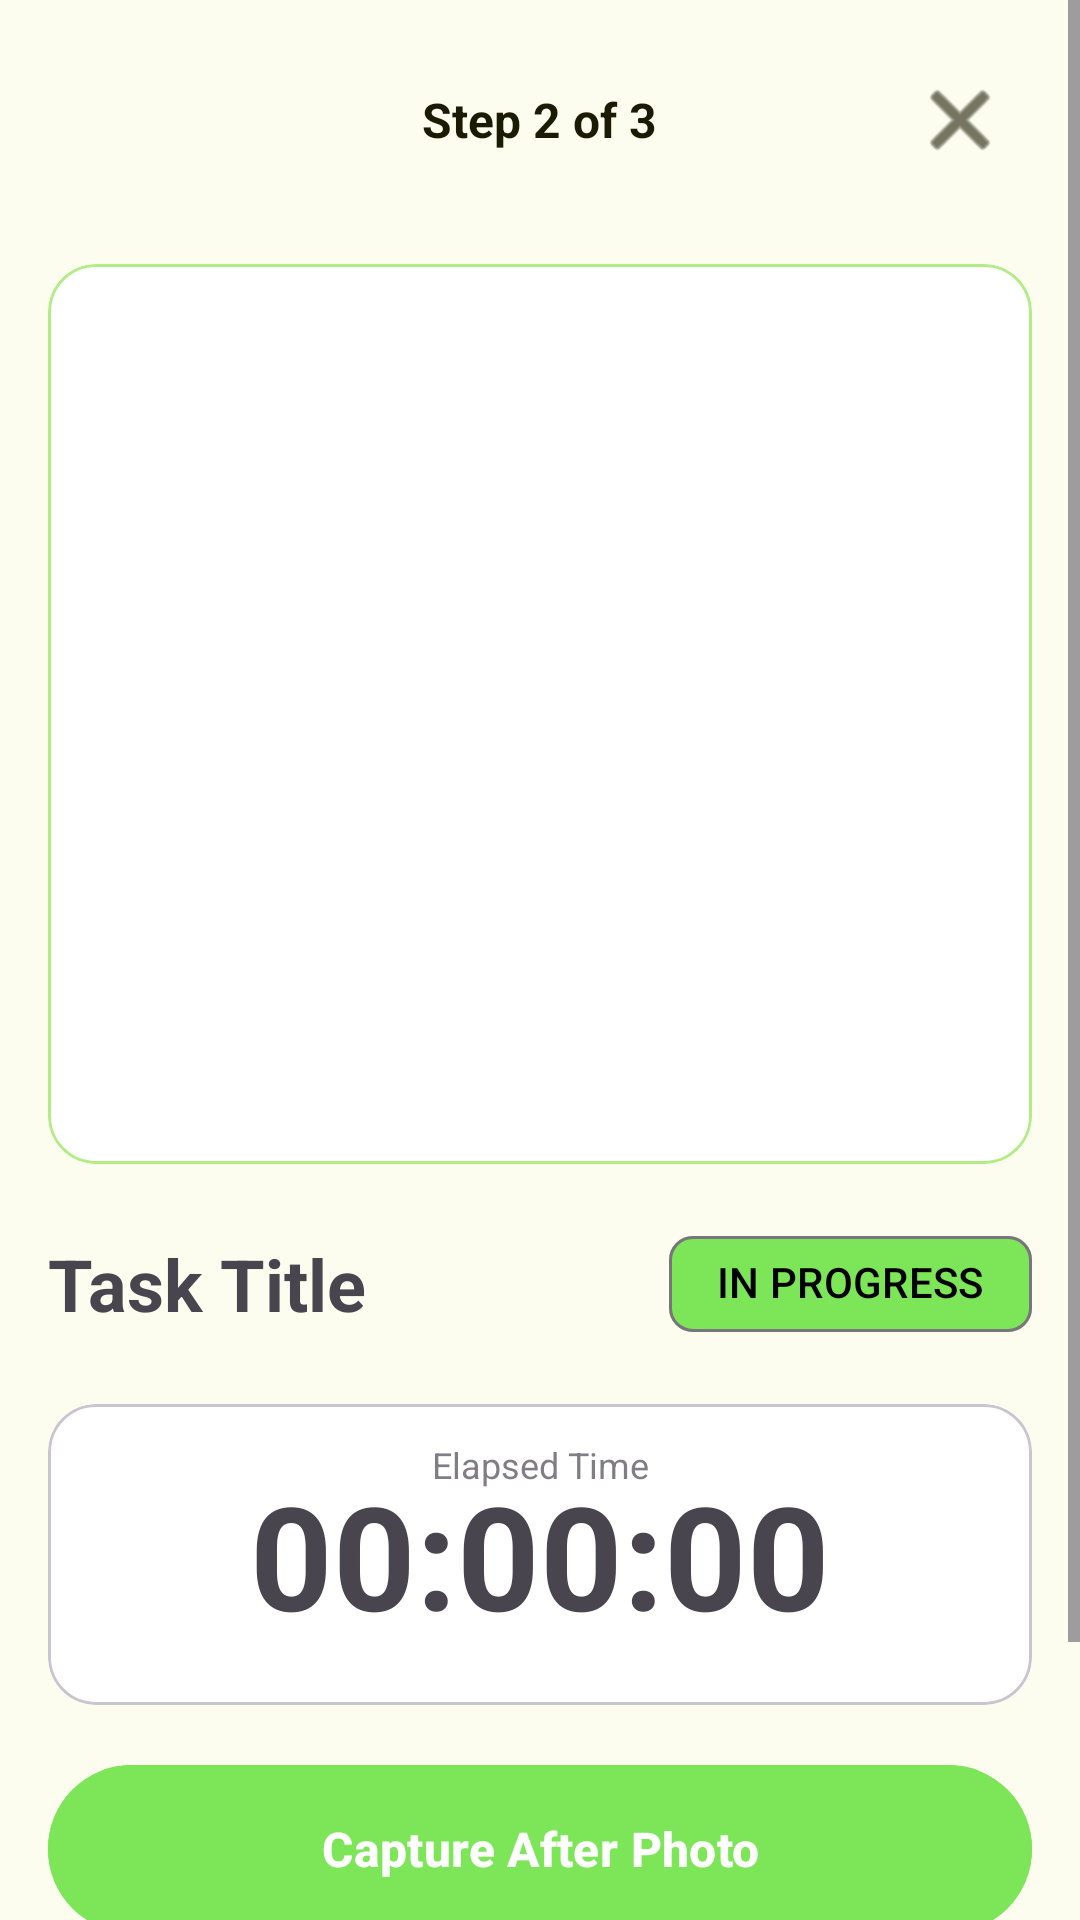

Named icons in this screenshot (1080x1920) and their centers, [x,y]:
Cancel Task: [960,120]
